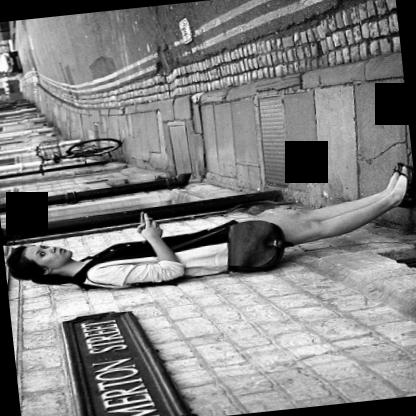handbag: (201, 220, 290, 276)
